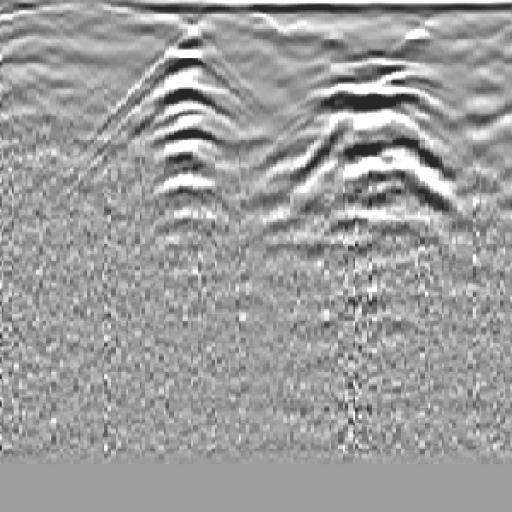metalic: (82, 14, 276, 250), (290, 39, 470, 257)
